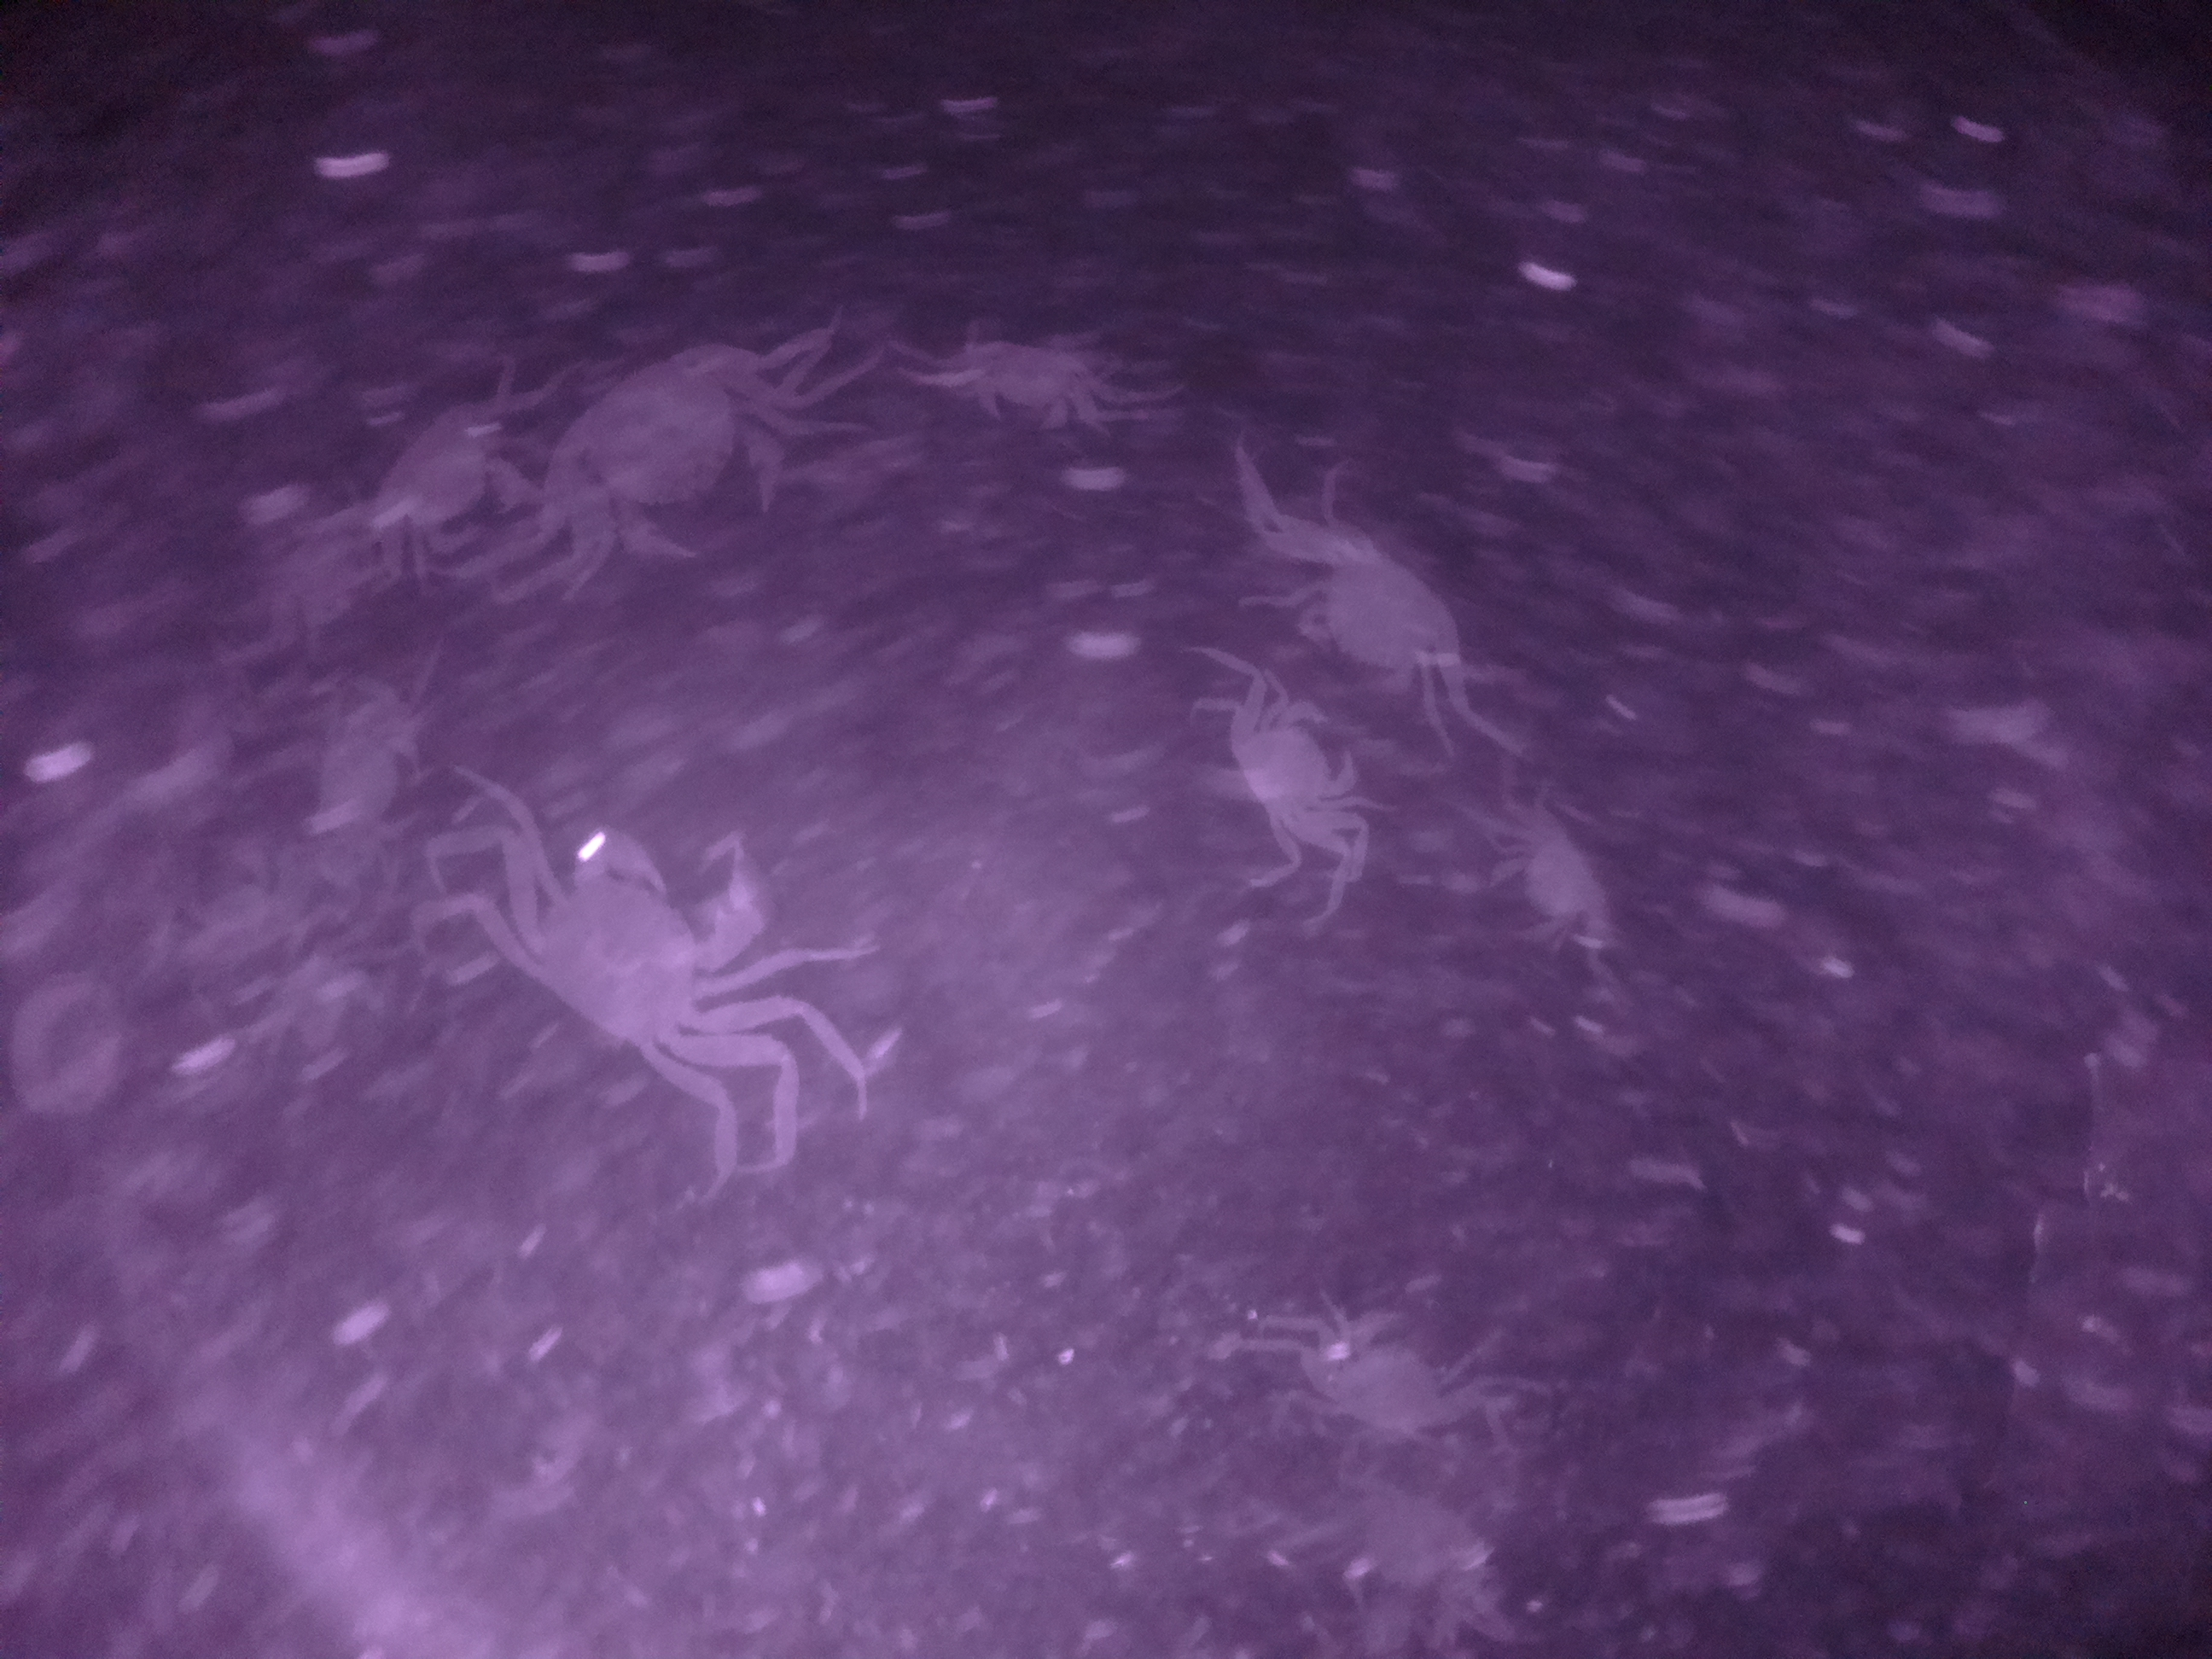Crab: (502, 796, 792, 1075), (557, 329, 812, 594), (1285, 514, 1467, 721), (1306, 1286, 1493, 1474), (1211, 681, 1362, 871), (1482, 816, 1632, 946), (954, 336, 1104, 430)
